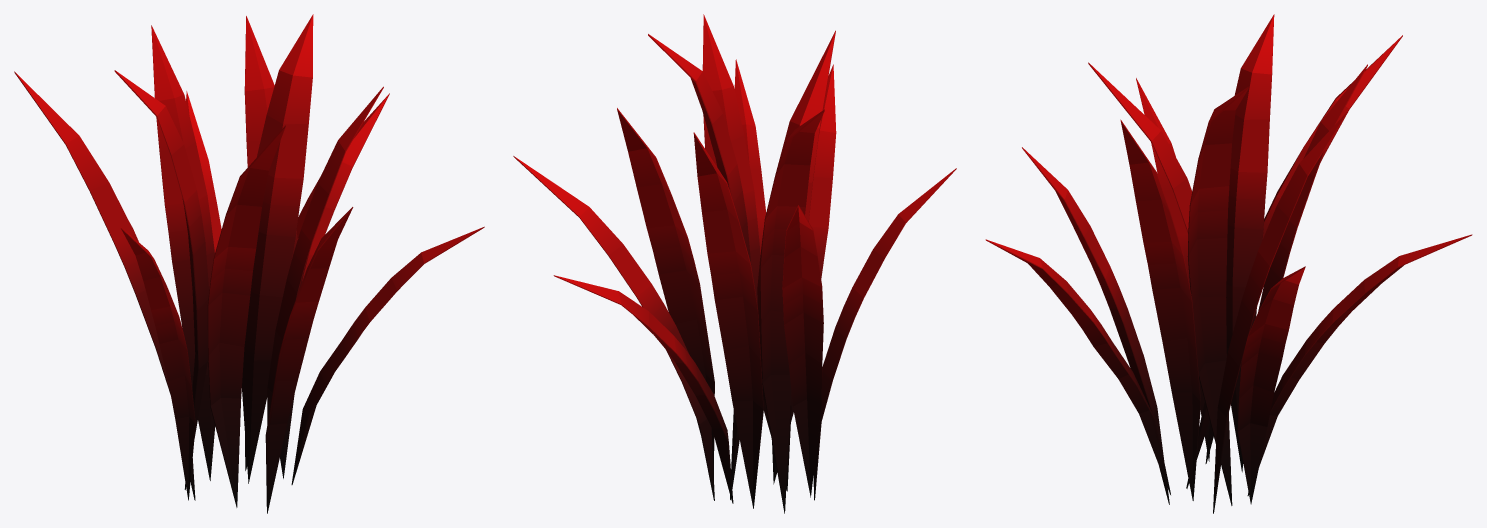
File: SuperTallBush.fbx
3 views of the same model, side by side, from view 1: azimuth 30°, elevation 25°; view 2: azimuth 150°, elevation 25°; view 3: azimuth 270°, elevation 25° (orthographic). The views are drawn at different scales.
Parts seen in each view (by area): view 1: Plane.055, Plane.053, Plane.051, Plane.061, Plane.052, Plane.059, Plane.058, Plane.056, Plane.062, Plane.060, Plane.057, Plane.054; view 2: Plane.051, Plane.052, Plane.060, Plane.058, Plane.057, Plane.056, Plane.054, Plane.059, Plane.055, Plane.061, Plane.053, Plane.062; view 3: Plane.055, Plane.056, Plane.052, Plane.057, Plane.060, Plane.061, Plane.062, Plane.054, Plane.053, Plane.051, Plane.058, Plane.059.
Boxes of the visible parts, bbox=[...] form: Plane.055: bbox=[242, 14, 313, 483]; Plane.053: bbox=[207, 125, 285, 507]; Plane.051: bbox=[151, 25, 215, 480]; Plane.061: bbox=[265, 207, 353, 513]; Plane.052: bbox=[114, 70, 209, 489]; Plane.059: bbox=[120, 227, 195, 500]; Plane.058: bbox=[14, 71, 195, 500]; Plane.056: bbox=[267, 86, 383, 423]; Plane.062: bbox=[291, 226, 484, 484]; Plane.060: bbox=[244, 16, 297, 478]; Plane.057: bbox=[245, 93, 389, 470]; Plane.054: bbox=[186, 91, 221, 252]; Plane.051: bbox=[693, 132, 763, 508]; Plane.052: bbox=[760, 109, 824, 513]; Plane.060: bbox=[617, 108, 714, 477]; Plane.058: bbox=[782, 205, 823, 497]; Plane.057: bbox=[513, 156, 714, 500]; Plane.056: bbox=[702, 14, 760, 304]; Plane.054: bbox=[553, 275, 733, 503]; Plane.059: bbox=[813, 168, 956, 500]; Plane.055: bbox=[648, 34, 751, 499]; Plane.061: bbox=[772, 64, 836, 484]; Plane.053: bbox=[757, 30, 835, 491]; Plane.062: bbox=[734, 59, 766, 254]; Plane.055: bbox=[1187, 87, 1248, 505]; Plane.056: bbox=[1120, 119, 1200, 500]; Plane.052: bbox=[1226, 14, 1274, 472]; Plane.057: bbox=[1237, 266, 1305, 504]; Plane.060: bbox=[1213, 111, 1348, 513]; Plane.061: bbox=[1022, 147, 1169, 504]; Plane.062: bbox=[985, 239, 1170, 494]; Plane.054: bbox=[1247, 234, 1472, 495]; Plane.053: bbox=[1088, 62, 1209, 488]; Plane.051: bbox=[1258, 64, 1367, 311]; Plane.058: bbox=[1205, 35, 1402, 463]; Plane.059: bbox=[1136, 78, 1209, 461].
Size of the model in its own units: 794 by 971 by 930.
